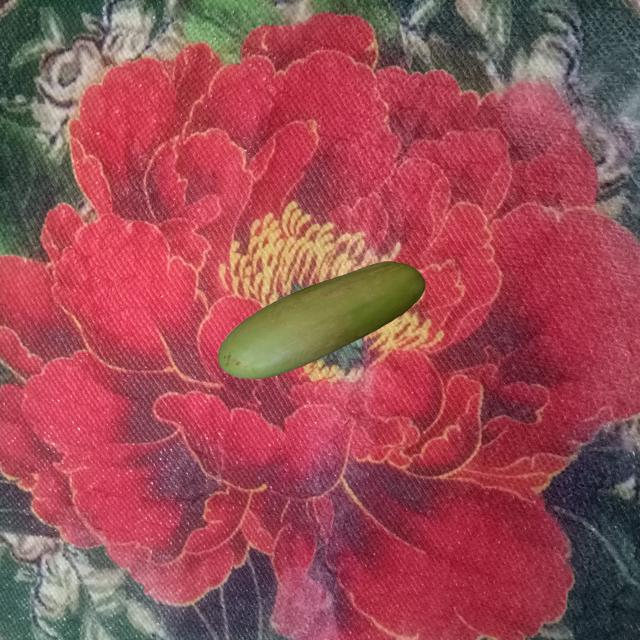Pepaya unrippen: (221, 260, 432, 384)
